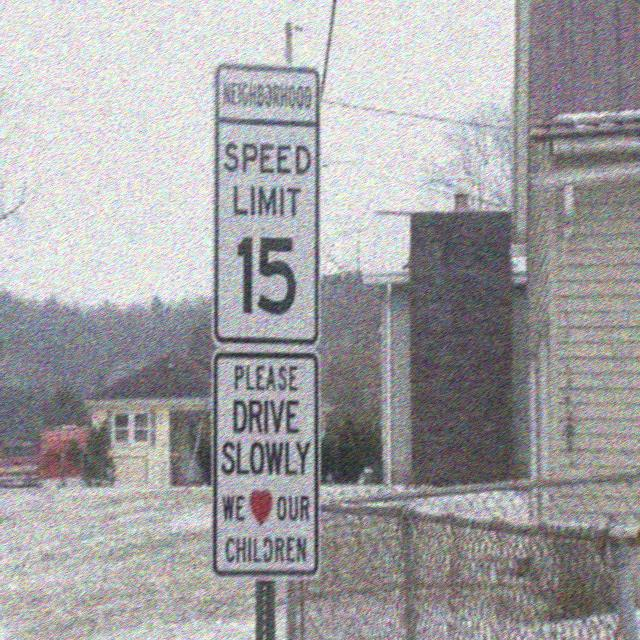speedLimit15: (216, 119, 318, 338)
